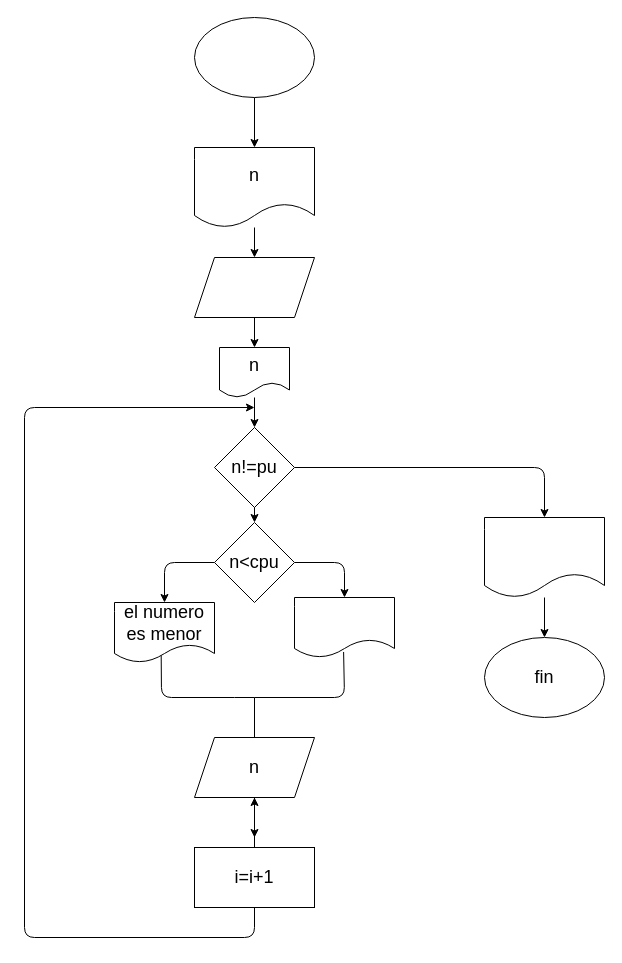
This 622x963 diagram has some shape labels left out. The centre of each missing label's shape, as x and y in pixels:
"adivino" goes at point 544,557.
"cpu=1, 100 i=0" goes at point 254,287.
"el numero es mayor" goes at point 344,627.
"inicio" goes at point 254,57.
